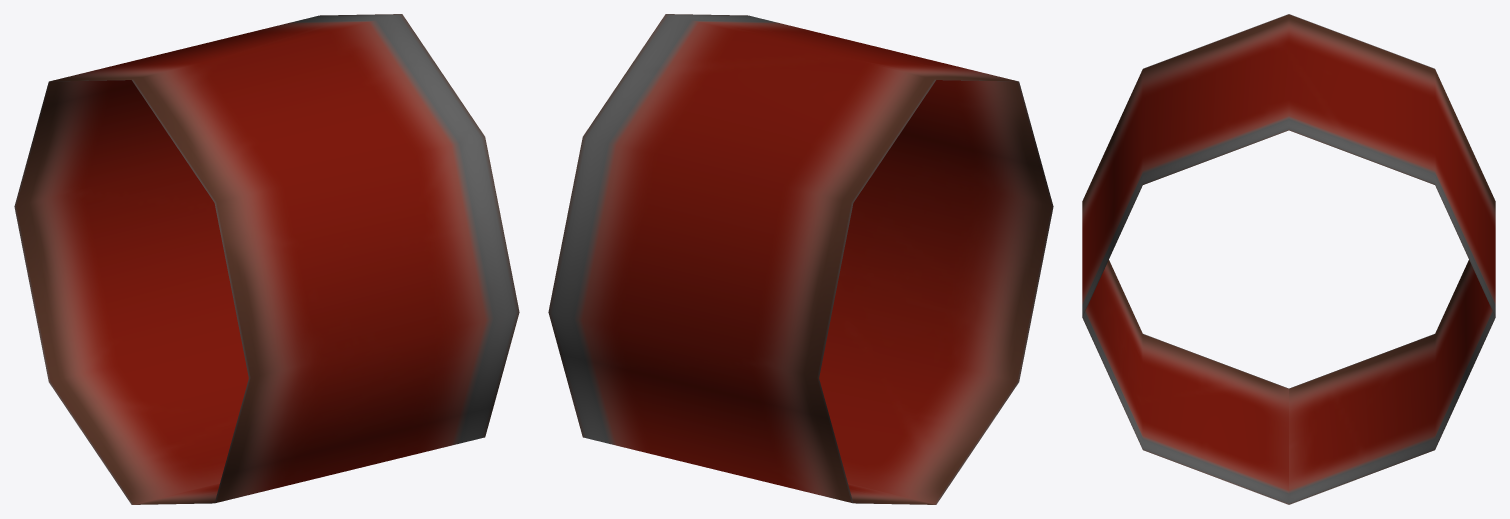
File: pipe01_str_8a_low.fbx
3 renders of one model, left to right at view 1: azimuth 30°, elevation 25°; view 2: azimuth 150°, elevation 25°; view 3: azimuth 270°, elevation 25°, orthographic. The views are drawn at different scales.
Visible parts, largest first — view 1: pipe01_str_8a_low; view 2: pipe01_str_8a_low; view 3: pipe01_str_8a_low.
Part boxes in pixels (x1,y1,x2,y2): pipe01_str_8a_low: (14,14,519,504); pipe01_str_8a_low: (548,14,1053,504); pipe01_str_8a_low: (1082,14,1495,504).
Bounding box in the file's own units: 8 × 12 × 12.
